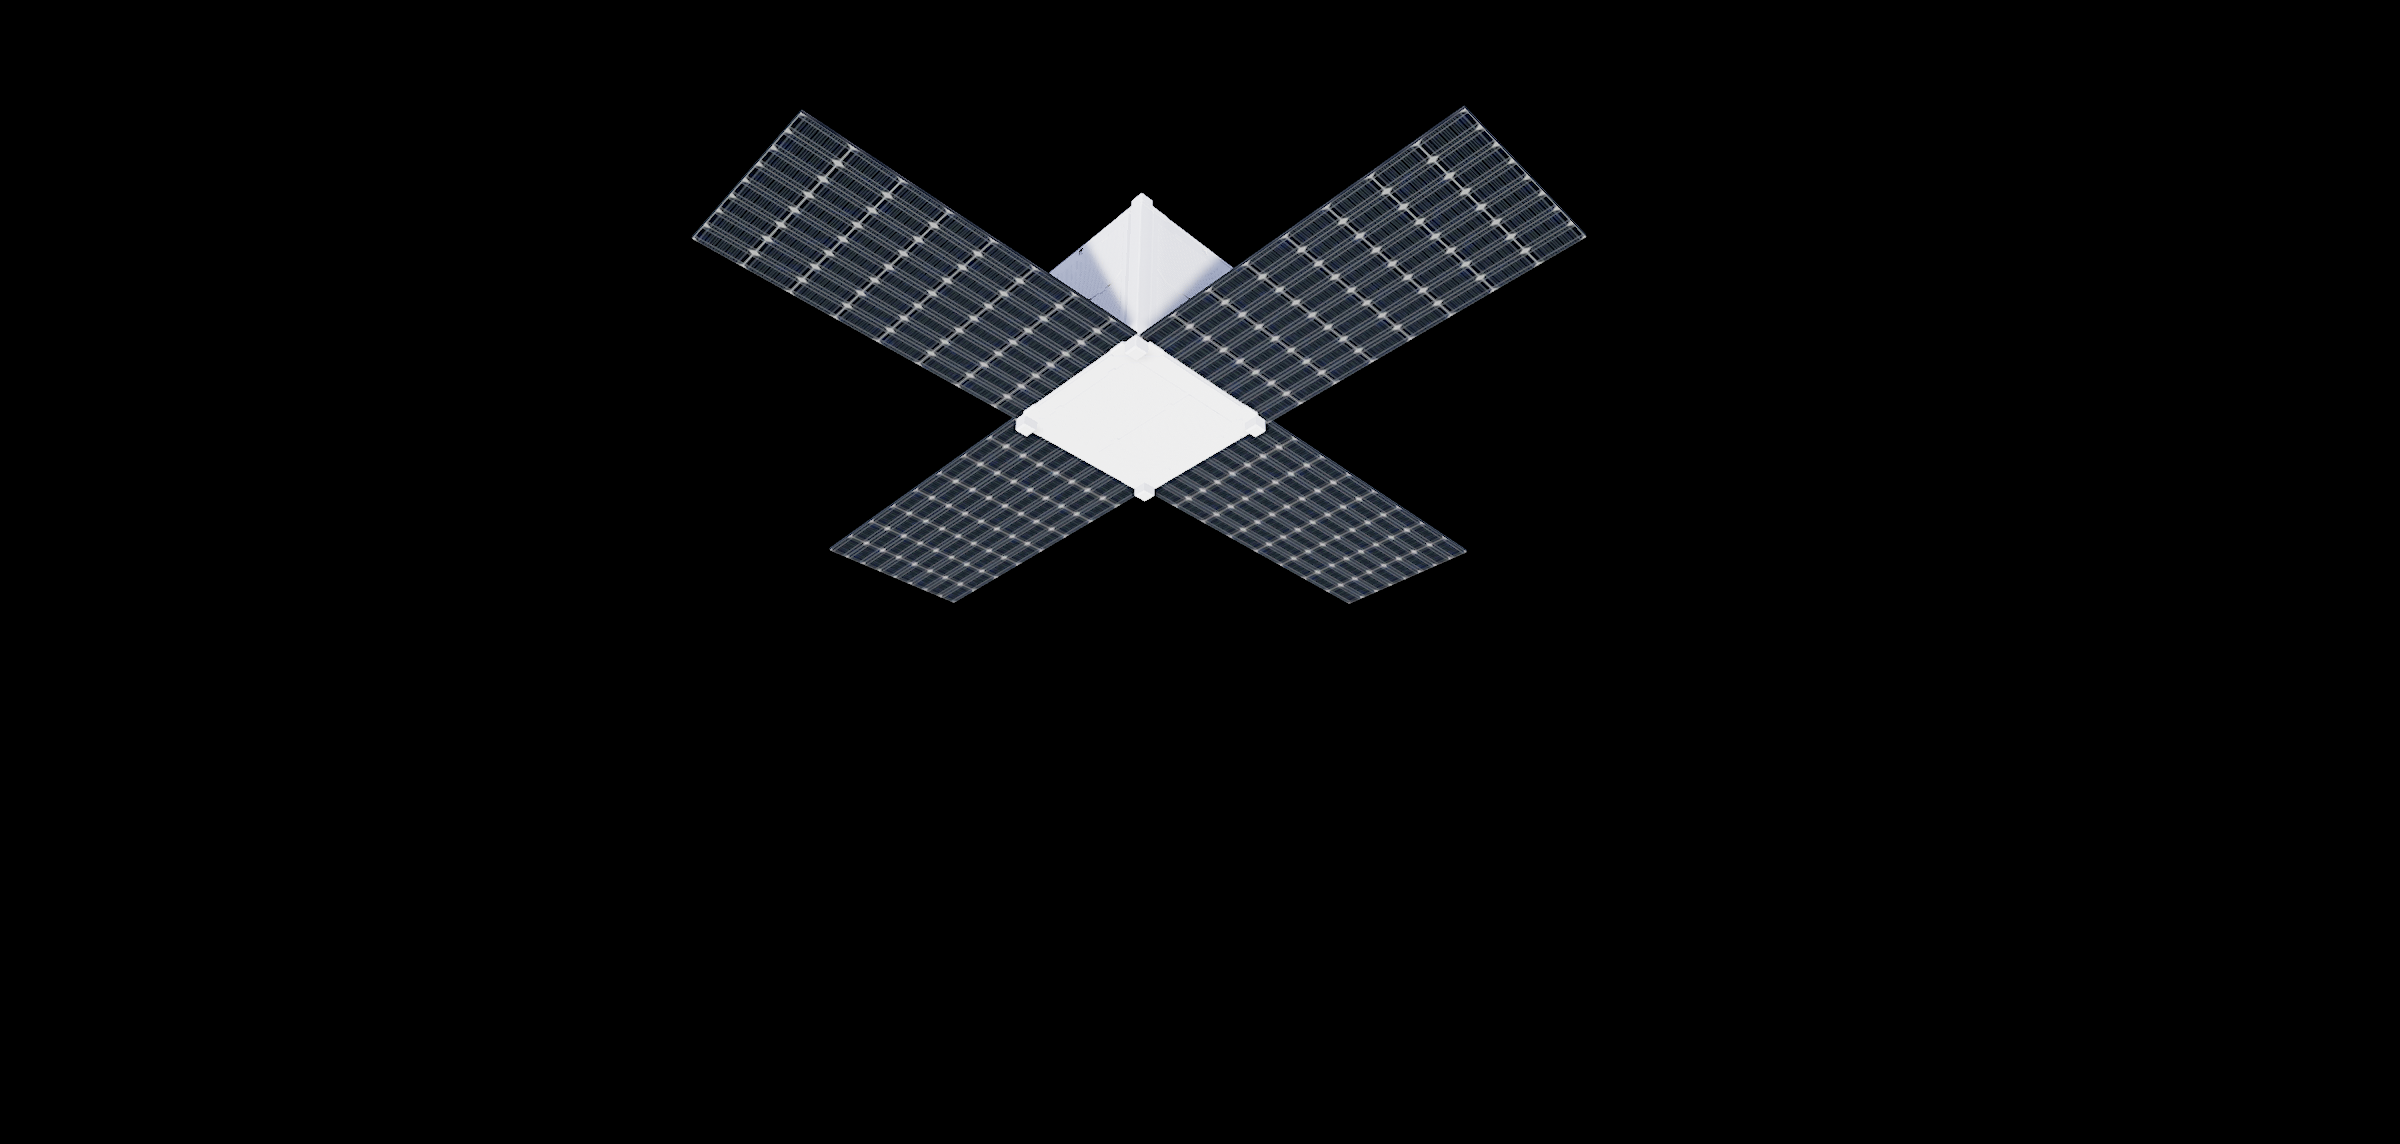satellite: (667, 78, 1633, 639)
